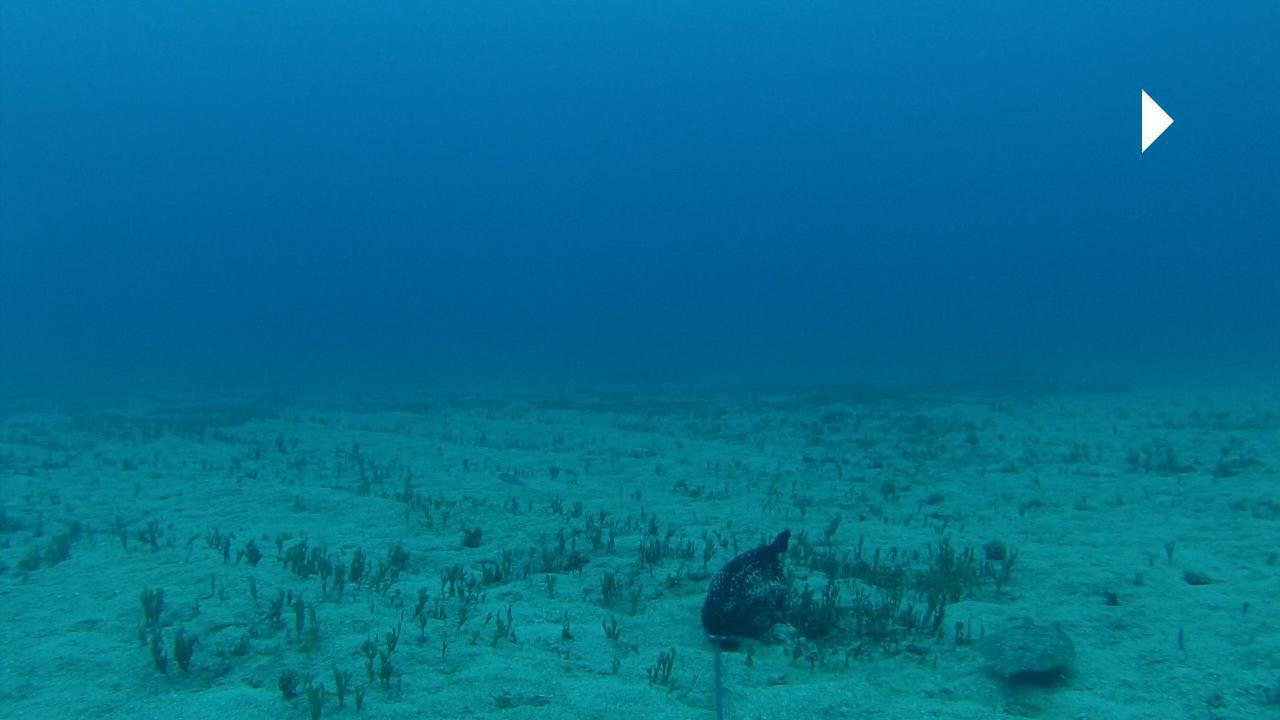bothus: (964, 612, 1074, 681)
